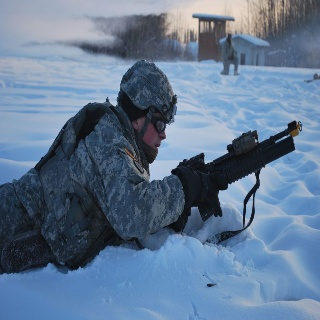rifle: (174, 119, 304, 218)
